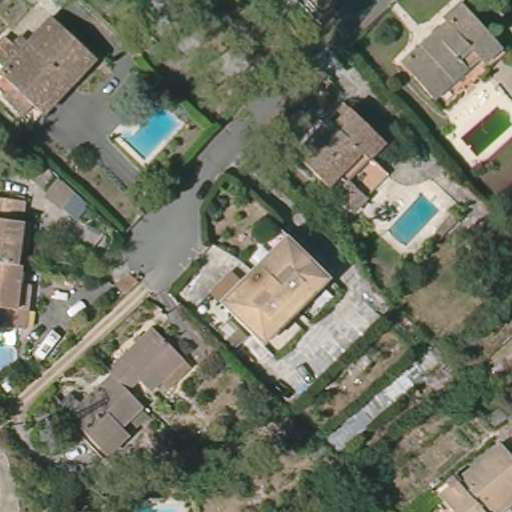pool: (119, 105, 185, 162), (386, 191, 442, 246)
